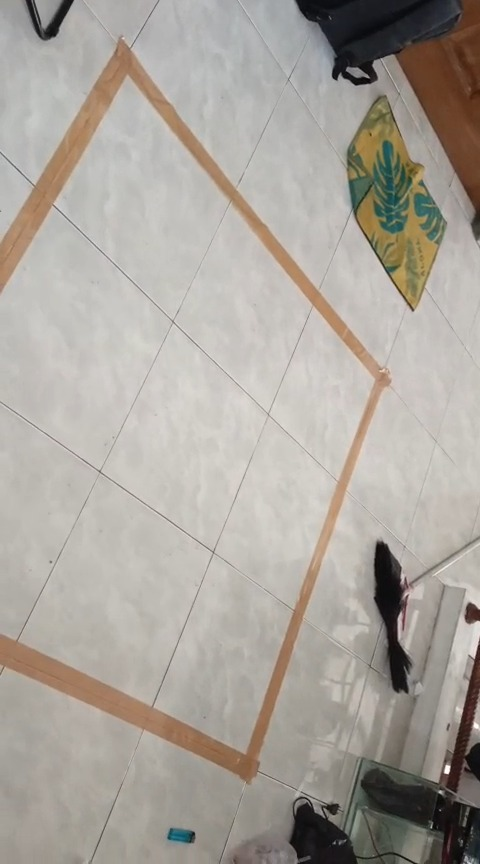floor marking: (0, 43, 390, 781)
